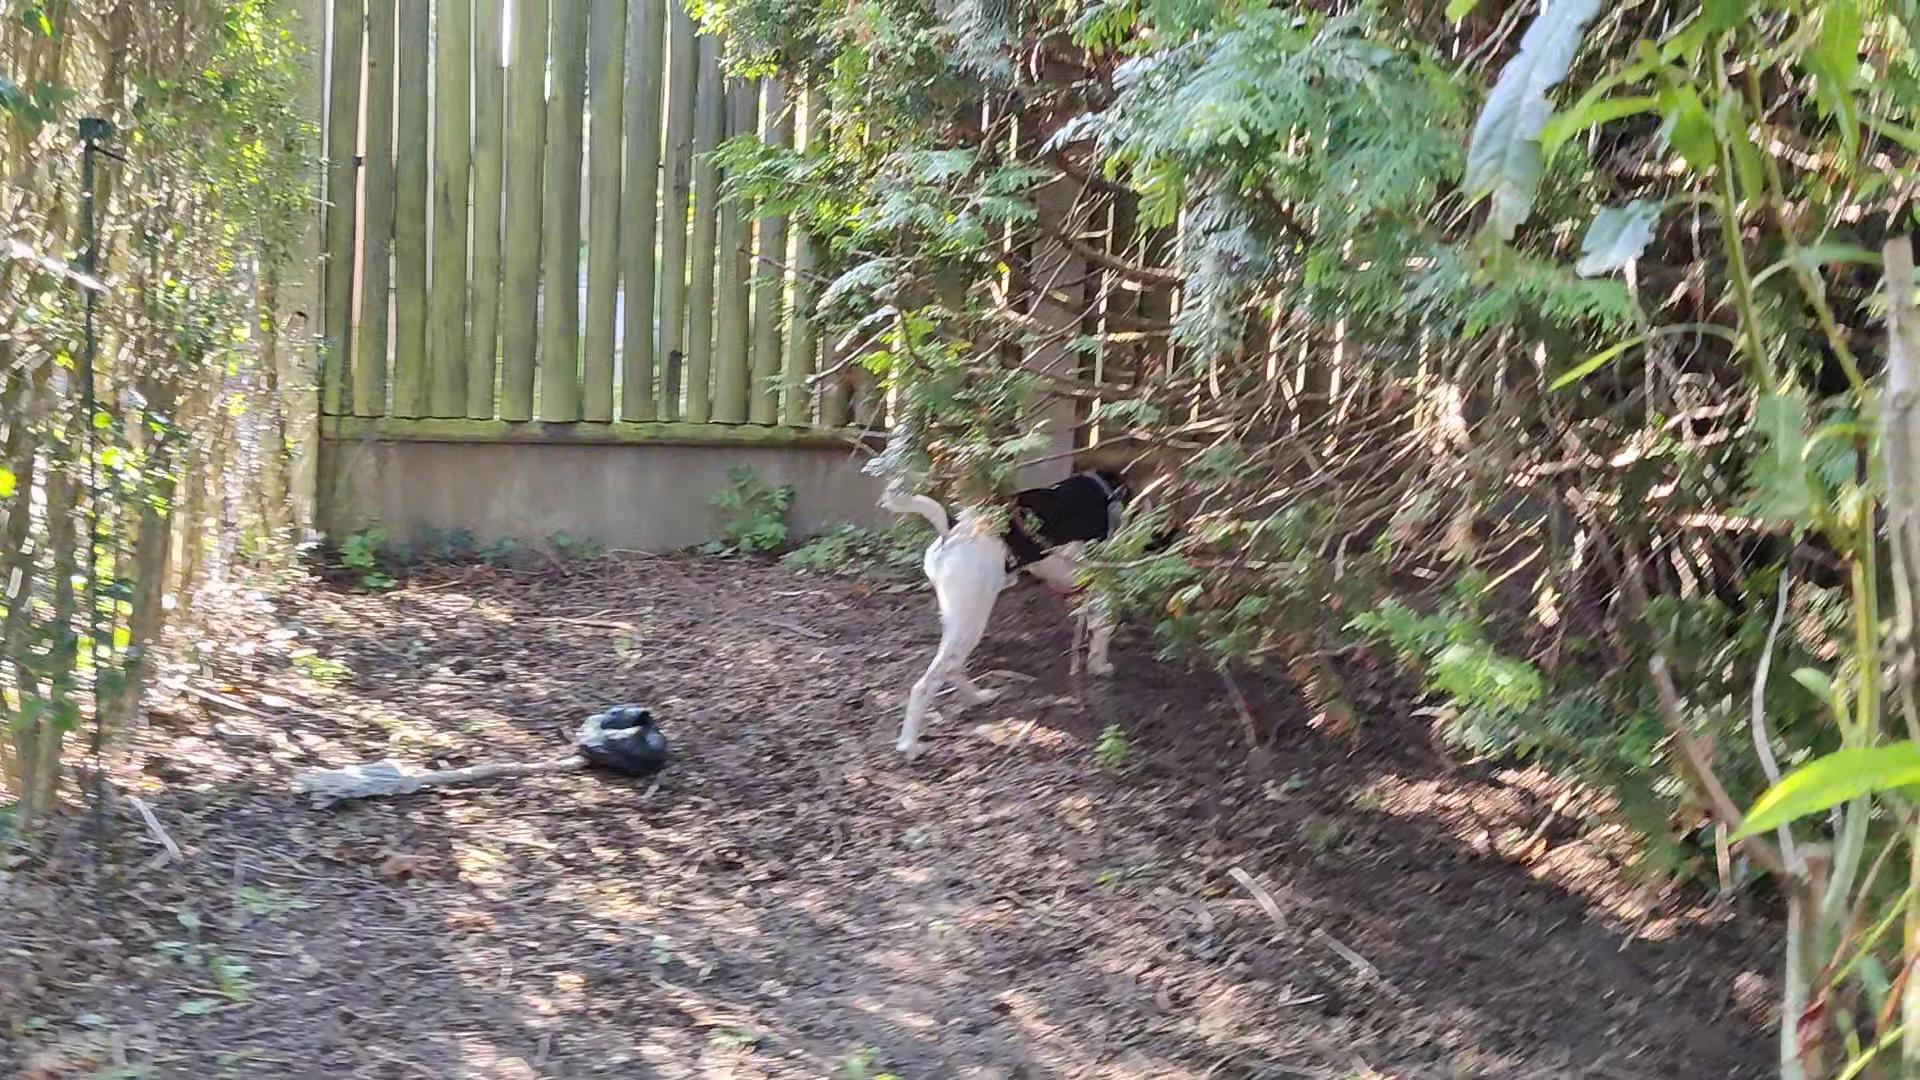Dog: (872, 458, 1197, 758)
